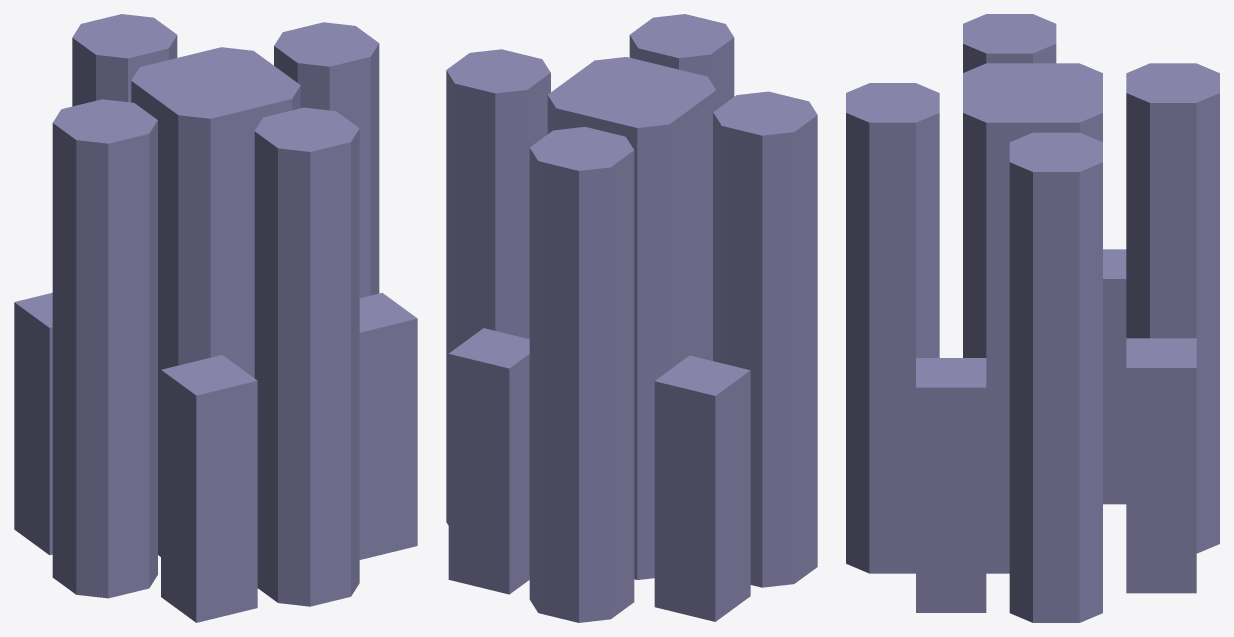
File: scatter.glb
The picture shows the model from 3 angles, left to right: view 1: azimuth 30°, elevation 25°; view 2: azimuth 150°, elevation 25°; view 3: azimuth 270°, elevation 25°; orthographic projection.
Visible parts, largest first — view 1: mergedBlocks(Clone); view 2: mergedBlocks(Clone); view 3: mergedBlocks(Clone).
Boxes of the visible parts, x1,y1,x2,y2 form: mergedBlocks(Clone): [14, 14, 417, 622]; mergedBlocks(Clone): [446, 14, 817, 622]; mergedBlocks(Clone): [846, 14, 1219, 622].
Size of the model in its own units: 0.8 by 1.06 by 0.8.
